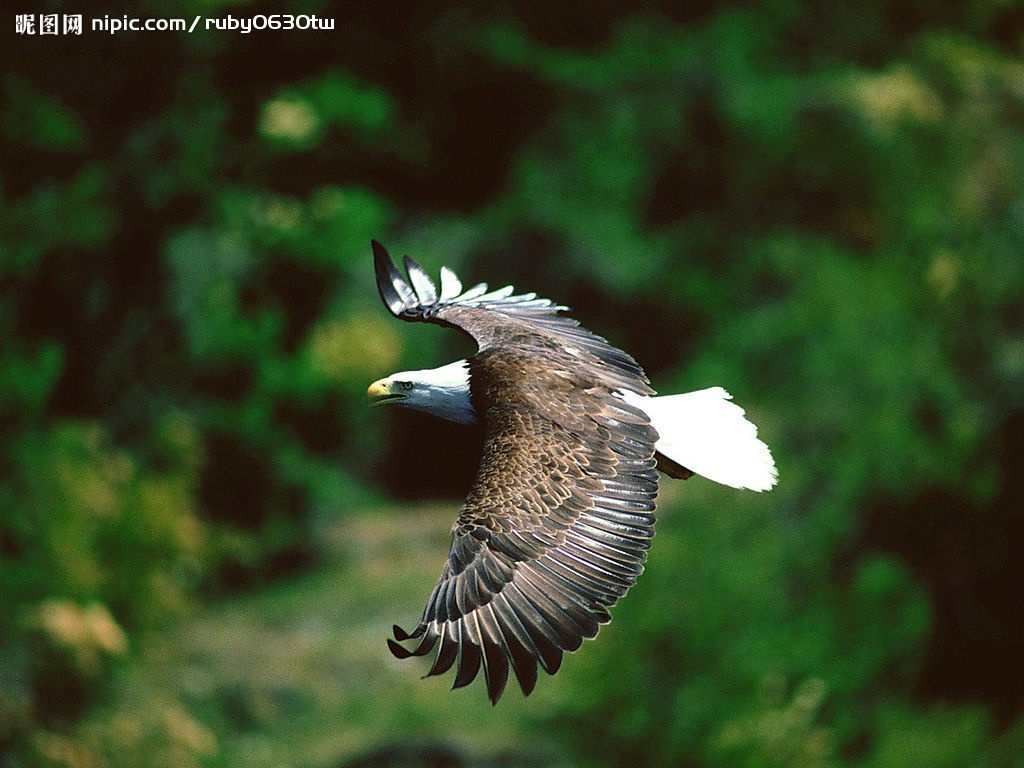bird: (359, 247, 781, 704)
